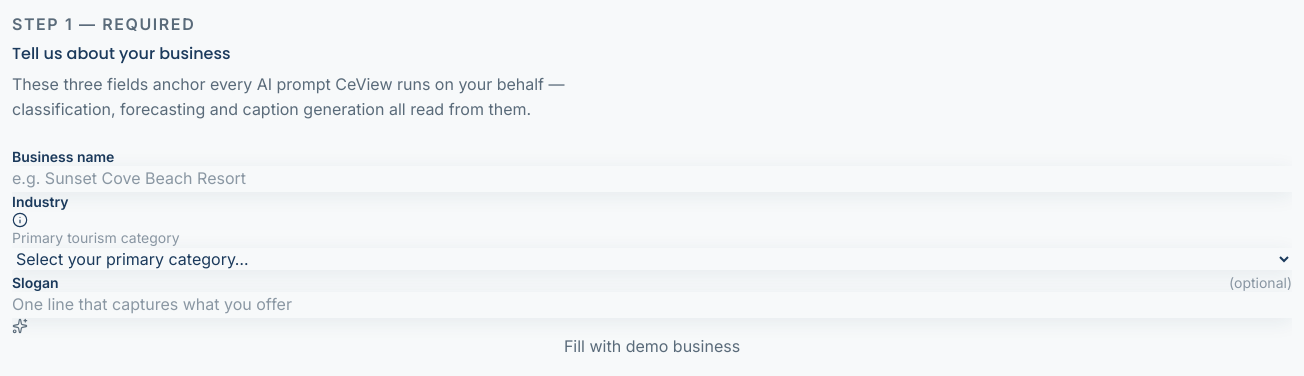
Test case: BasicInfoStep › "Fill with demo business" populates the required fields
The width and height of the screenshot is (1304, 376).
Click the button "Fill with demo business" at {"x": 652, "y": 339}, box [12, 318, 1292, 360]
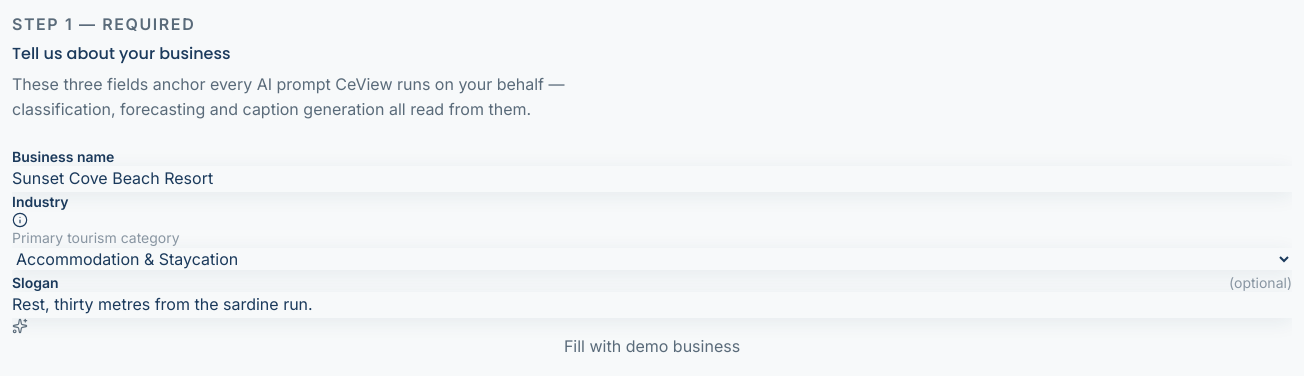
Result: the field labelled "Business name" holds "Sunset Cove Beach Resort" at [12, 166, 1292, 192]
Result: the dropdown labelled "Industry Primary tourism category" shows "Accommodation & Staycation" at [12, 248, 1292, 270]
